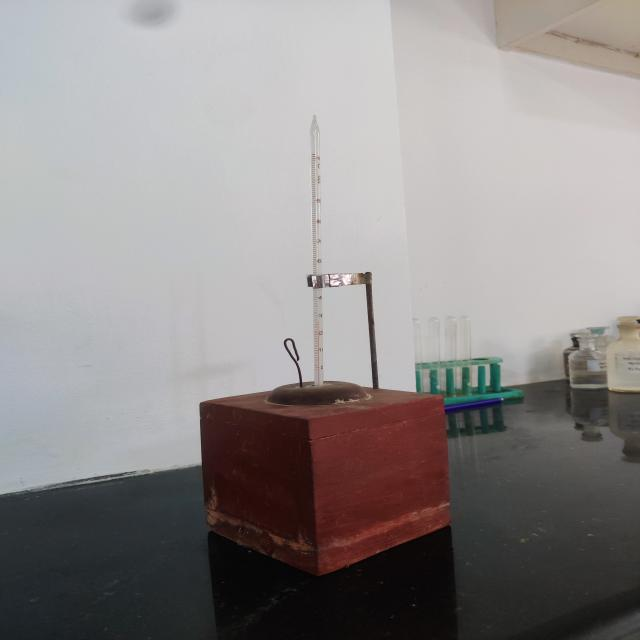Calorimeter: (172, 93, 480, 586)
